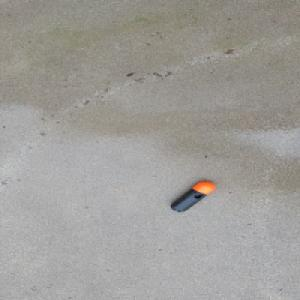PlasticPart: (169, 180, 217, 212)
